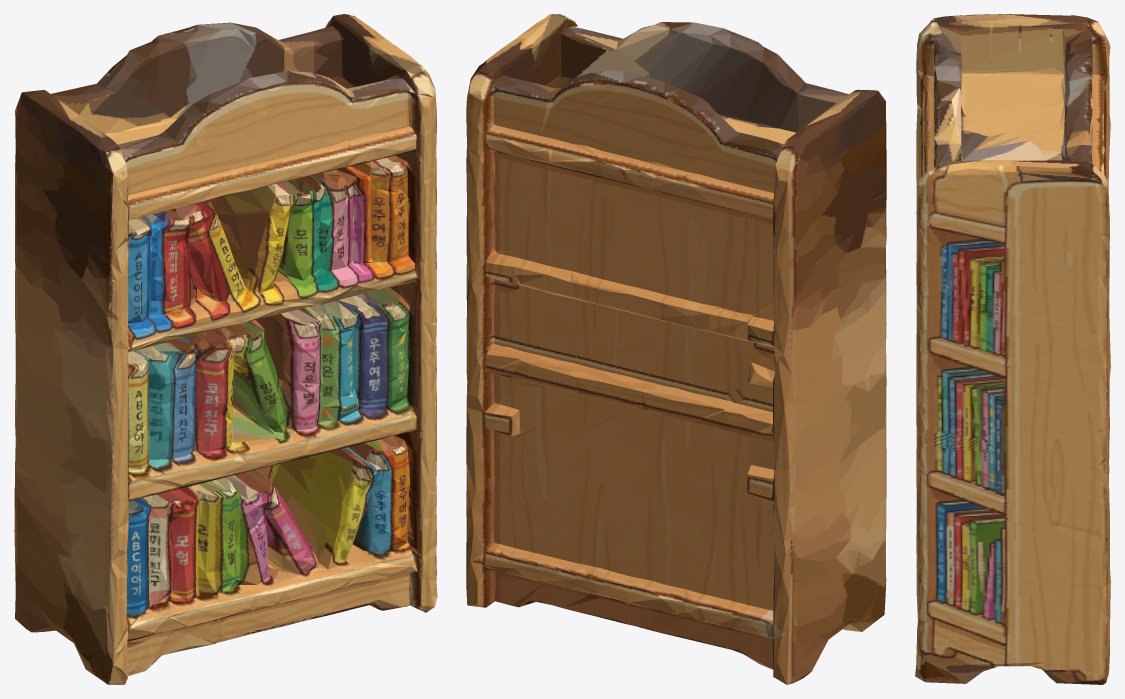
The model's file is bookshelf.glb.
3 views of the same model, side by side, from view 1: azimuth 30°, elevation 25°; view 2: azimuth 150°, elevation 25°; view 3: azimuth 270°, elevation 25° (orthographic). The views are drawn at different scales.
Visible parts, largest first — view 1: geometry_0; view 2: geometry_0; view 3: geometry_0.
Part boxes in pixels (<box>): geometry_0: <box>14,14,437,684</box>; geometry_0: <box>466,14,886,684</box>; geometry_0: <box>915,14,1110,684</box>.
Bounding box in the file's own units: 0.5568 × 0.9 × 0.2947.
1 material, 1 textured.
